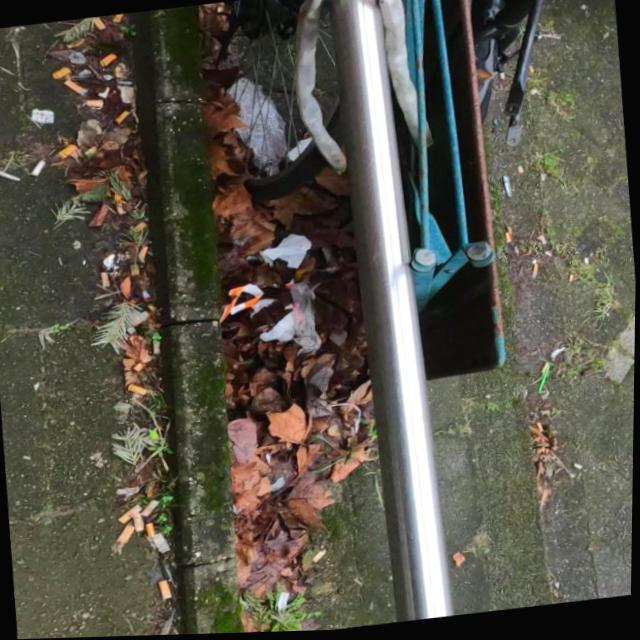Paper: (261, 232, 315, 273), (258, 311, 298, 344)
Plastic: (217, 282, 266, 324)
